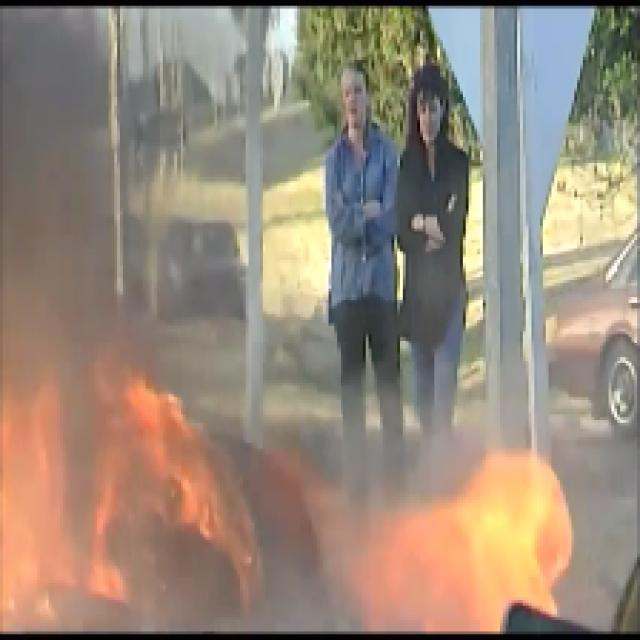Fire: (2, 320, 248, 634), (357, 425, 560, 640)
Smoke: (2, 2, 114, 294)
